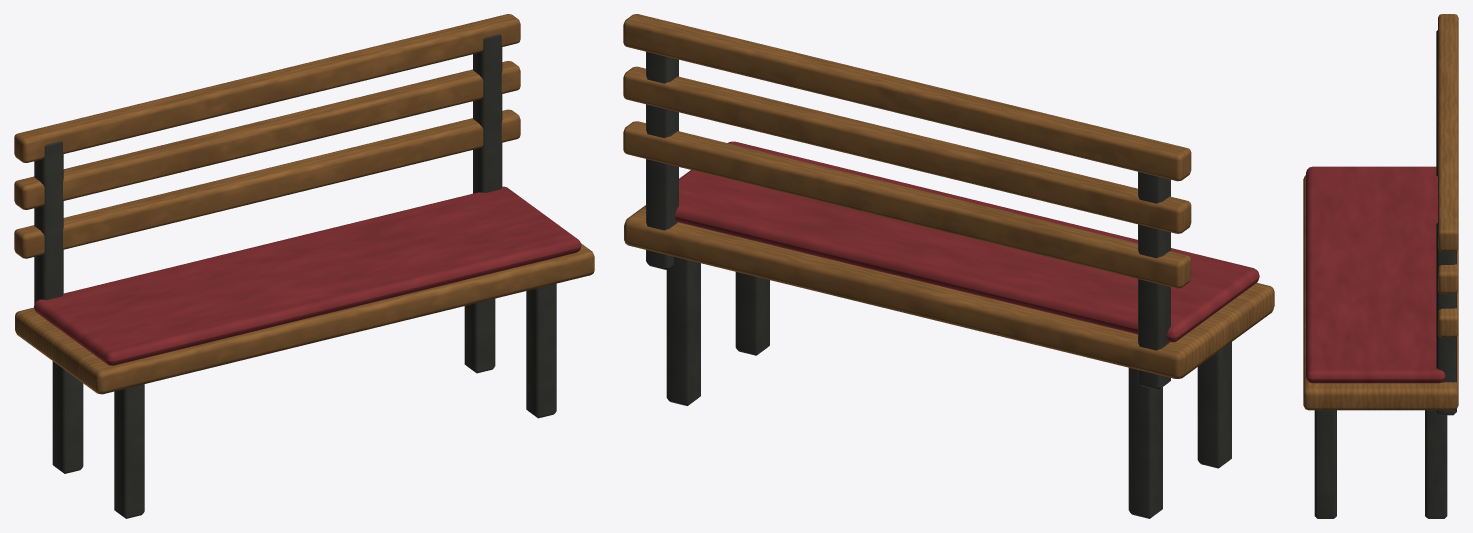
File: Furn_BenchBackCushion.fbx
The picture shows the model from 3 angles, left to right: view 1: azimuth 30°, elevation 25°; view 2: azimuth 150°, elevation 25°; view 3: azimuth 270°, elevation 25°; orthographic projection. The views are drawn at different scales.
Parts seen in each view (by area): view 1: Furn_BenchBackCushion_Mesh; view 2: Furn_BenchBackCushion_Mesh; view 3: Furn_BenchBackCushion_Mesh.
Boxes of the visible parts, bbox=[...] form: Furn_BenchBackCushion_Mesh: bbox=[14, 14, 594, 518]; Furn_BenchBackCushion_Mesh: bbox=[623, 14, 1274, 518]; Furn_BenchBackCushion_Mesh: bbox=[1303, 14, 1458, 518].
Bounding box in the file's own units: 1.5 × 0.97 × 0.45.
Materials: 3 (3 with a texture image).
